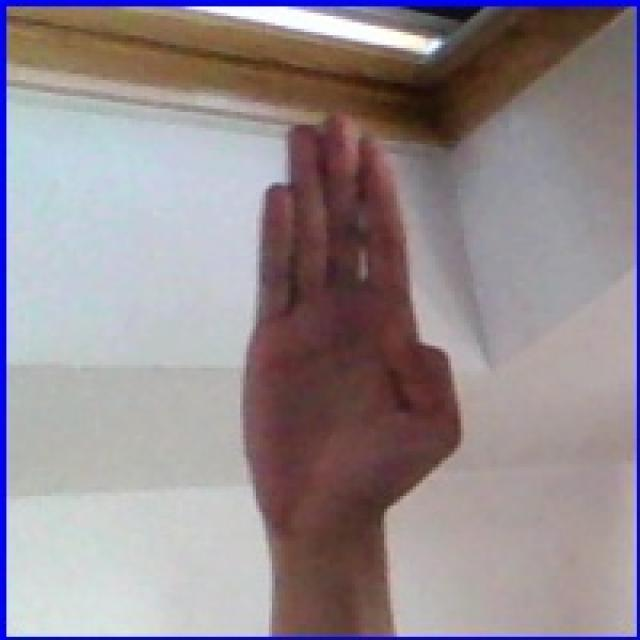Letra B: (211, 101, 492, 568)
